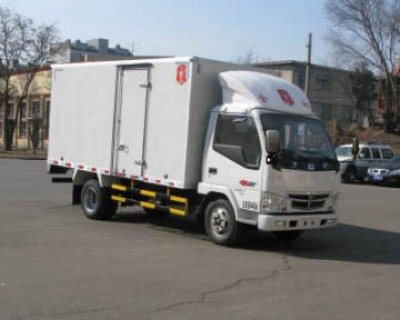smalltruck: (43, 38, 341, 256)
